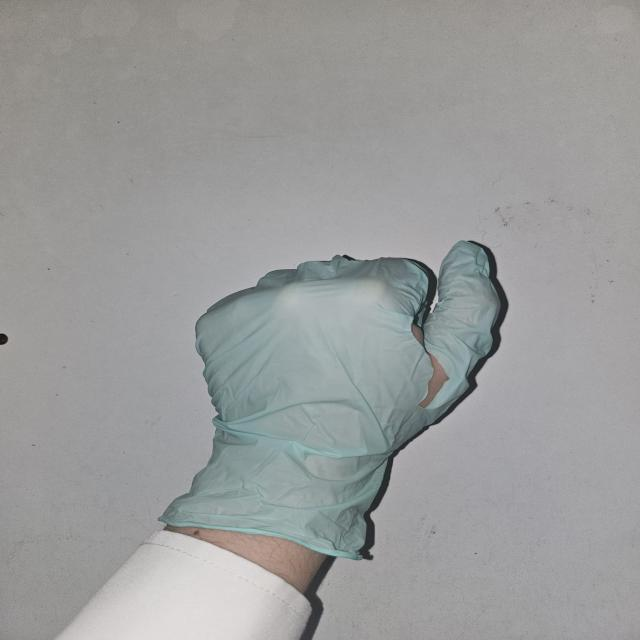gloves_damaged: (151, 241, 511, 571)
